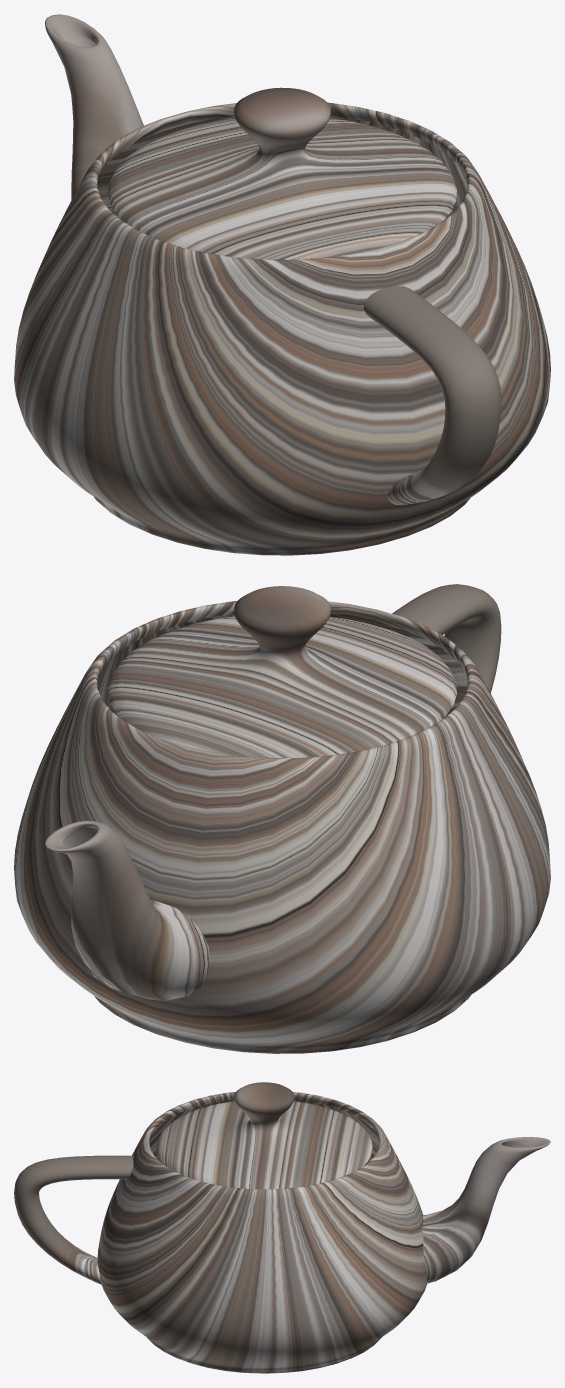
Rendered from UtahTeapot.fbx.
3 views of the same model, one above another, from view 1: azimuth 30°, elevation 25°; view 2: azimuth 150°, elevation 25°; view 3: azimuth 270°, elevation 25° (orthographic). The views are drawn at different scales.
Visible parts, largest first — view 1: UtahTeapotSkewedTex; view 2: UtahTeapotSkewedTex; view 3: UtahTeapotSkewedTex.
Part boxes in pixels (left/top/right/bottom): UtahTeapotSkewedTex: left=14, top=14, right=550, bottom=555; UtahTeapotSkewedTex: left=14, top=584, right=550, bottom=1053; UtahTeapotSkewedTex: left=14, top=1082, right=550, bottom=1373.
Size of the model in its own units: 40 by 31.5 by 64.34.
1 material, 1 textured.
